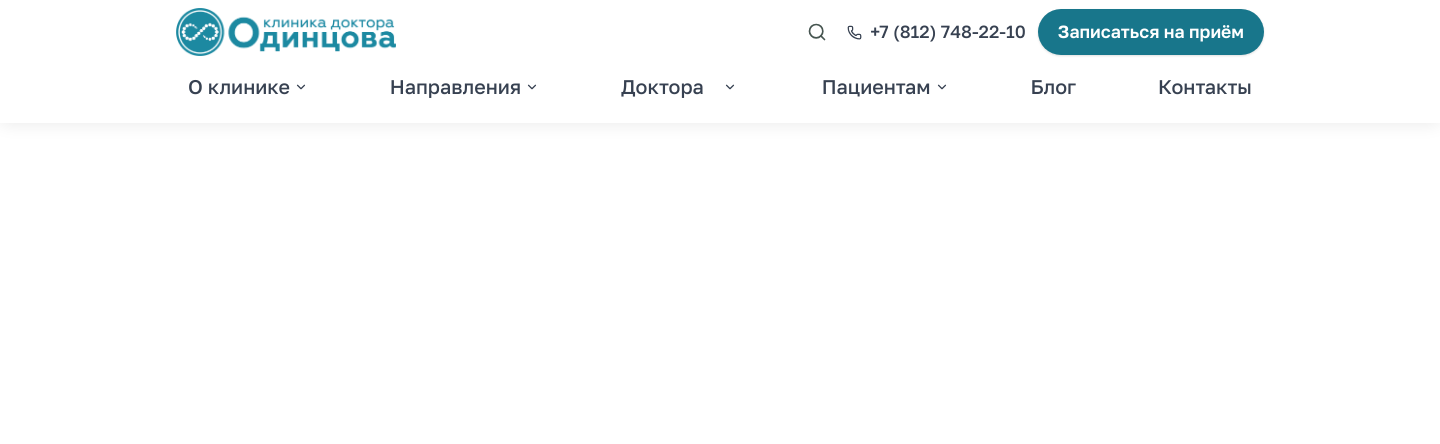
Test case: Header › opens mega-menu on keyboard focus for Направления
Focus the button "Направления": [464, 87] box [378, 64, 551, 111]
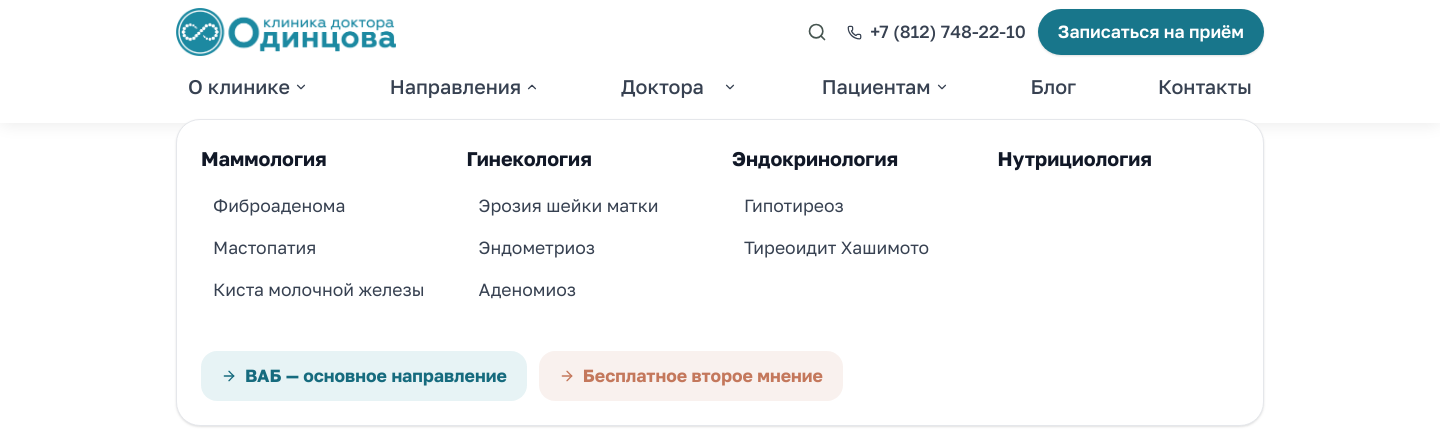
Result: the menu item "Маммология" is shown at [201, 147, 327, 170]
